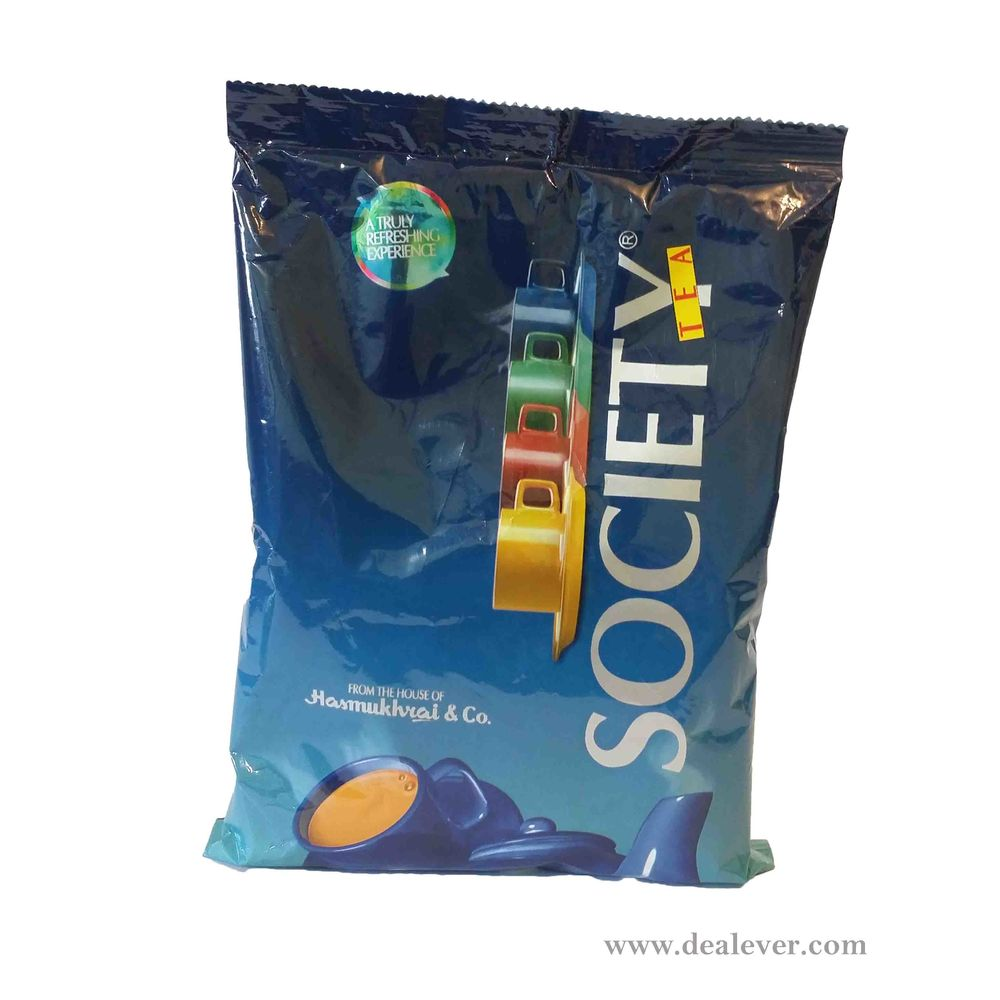society: (215, 86, 794, 888)
